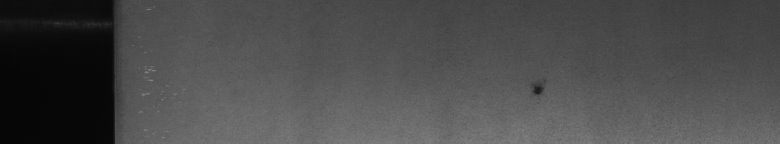fi: (527, 72, 549, 104)
